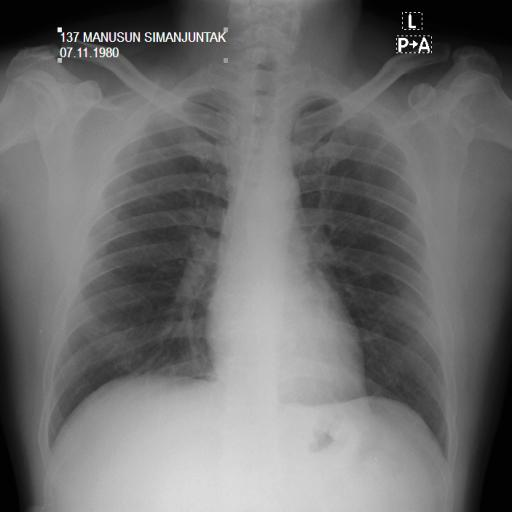normal: (35, 54, 464, 478)
